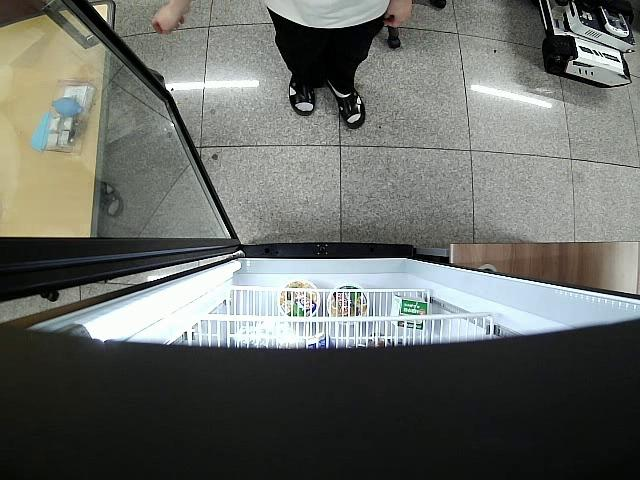00_hand: (150, 1, 189, 34), (384, 2, 414, 32)
